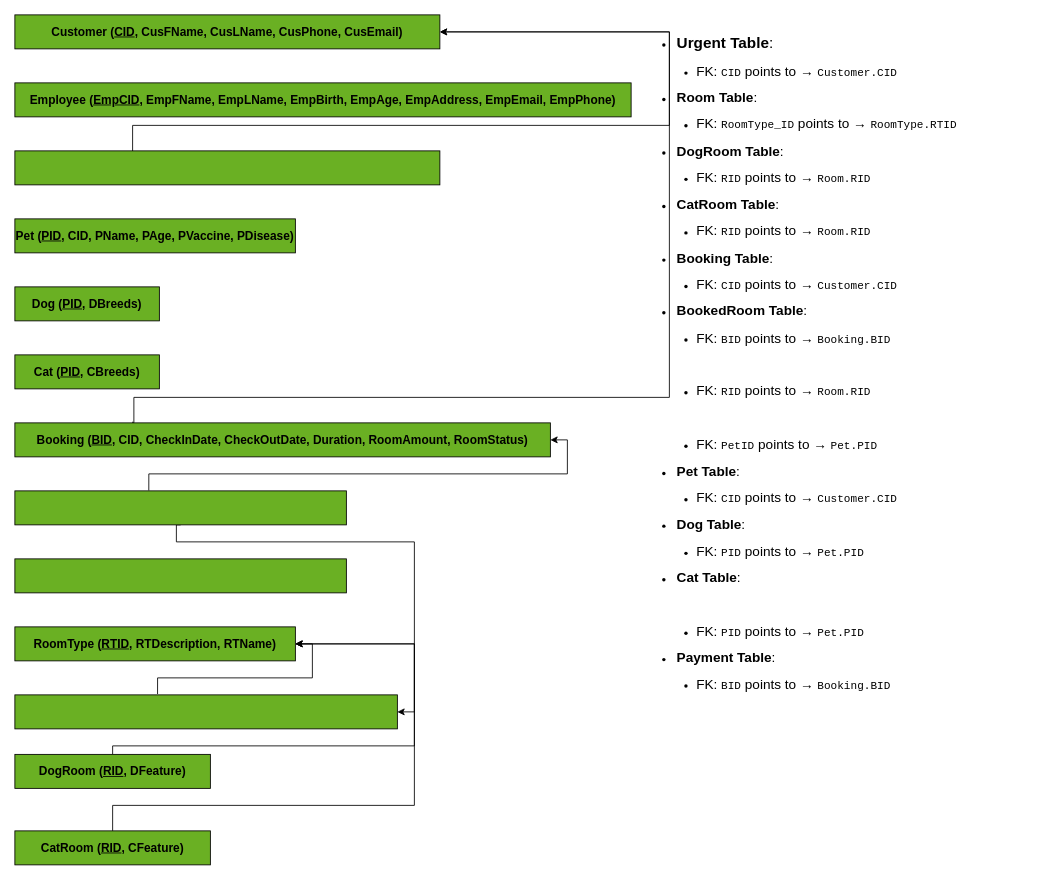
Image size: 1058x880. Some labels were removed from this diagram. The box of each missing label's shape, as (x1, y1, x2, y2) in pixels:
BookedRoom ( BID , RID , RoomStatus, PetID): (14, 490, 346, 525)
Payment ( PayID , BID, PayTotal, PayMethod, PayDate): (14, 558, 346, 593)
Room ( RID , RoomType_ID, Price, RoomTotal, RoomName): (14, 694, 397, 729)
Urgent ( UrID , CID, UrFname, UrLName, UrPhone, UrRelationship): (14, 150, 440, 185)
